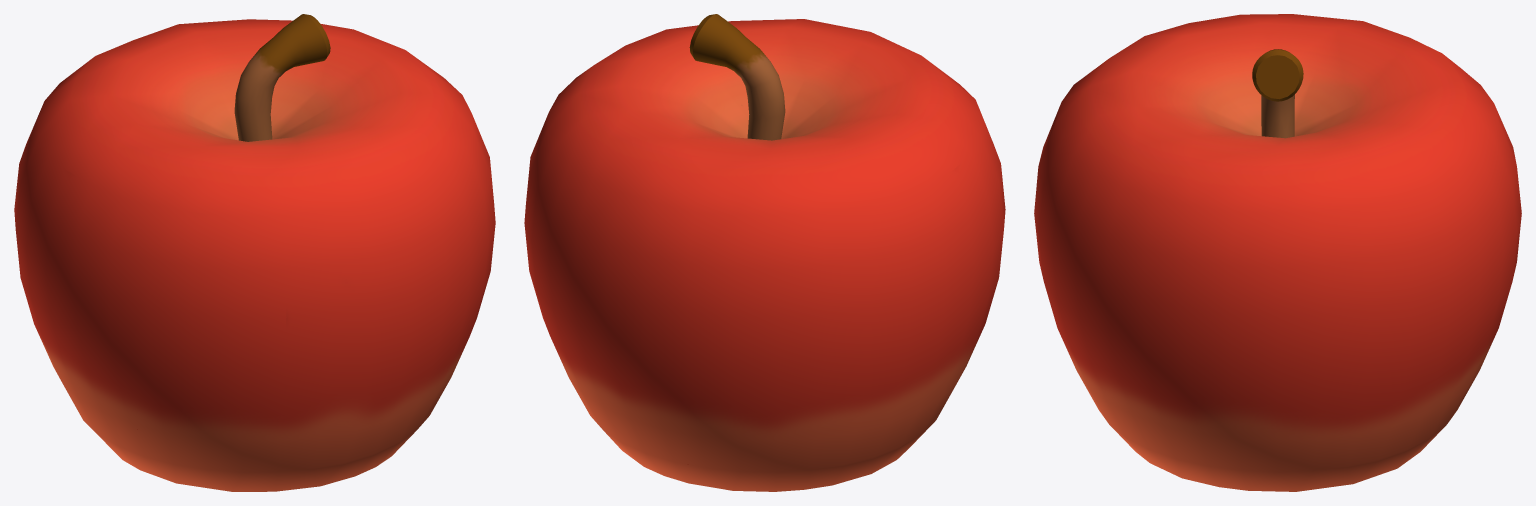
The model's file is apple.fbx.
3 views of the same model, side by side, from view 1: azimuth 30°, elevation 25°; view 2: azimuth 150°, elevation 25°; view 3: azimuth 270°, elevation 25° (orthographic).
Parts seen in each view (by area): view 1: Cylinder; view 2: Cylinder; view 3: Cylinder.
Boxes of the visible parts, x1,y1,x2,y2 form: Cylinder: (14,14,495,491); Cylinder: (524,14,1005,491); Cylinder: (1034,14,1521,491).
Size of the model in its own units: 232 by 218 by 232.
